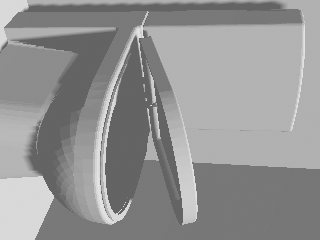lid_1: (139, 37, 197, 224)
